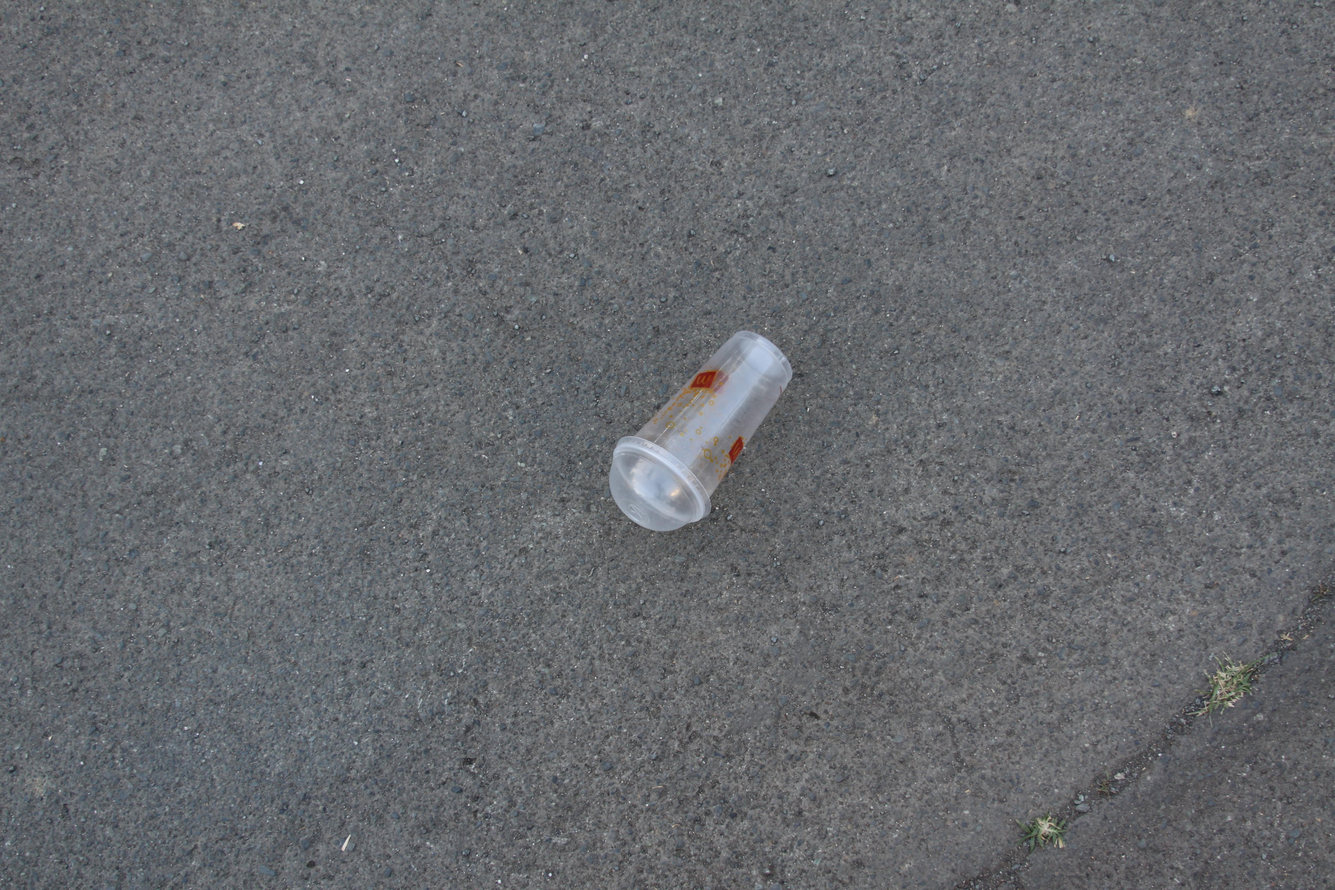Plastic: (608, 330, 794, 533)
